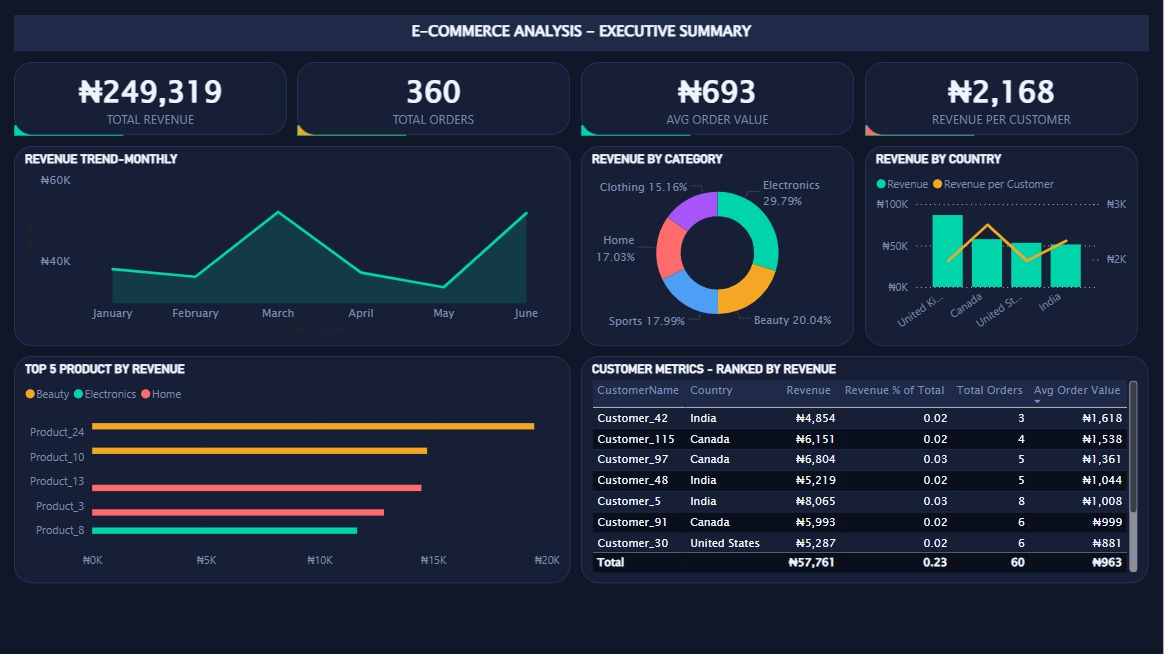

Layout of this report page (visuals, bound fields, positions):
{"tool":"powerbi","page":{"name":"Executive Summary","canvas":[1280,720],"ordinal":0},"visuals":[{"type":"group","id":"g1","title":"Group 1","box":[952,68,300,81],"z":0},{"type":"shape","box":[16,137,120,12],"z":0,"group":"g3"},{"type":"shape","box":[328,137,120,12],"z":0,"group":"g4"},{"type":"shape","box":[640,137,120,12],"z":0,"group":"g5"},{"type":"shape","box":[952,137,120,12],"z":0,"group":"g6"},{"type":"card","fields":{"Values":["_Measure.Revenue"]},"box":[16,68,300,80],"z":1000,"group":"g3"},{"type":"card","fields":{"Values":["_Measure.Total Orders"]},"box":[328,68,300,80],"z":1000,"group":"g4"},{"type":"group","id":"g2","title":"Group 1","box":[640,68,300,81],"z":1000},{"type":"card","fields":{"Values":["_Measure.Avg Order Value"]},"box":[640,68,300,80],"z":1000,"group":"g5"},{"type":"card","fields":{"Values":["_Measure.Revenue per Customer"]},"box":[952,68,300,80],"z":1000,"group":"g6"},{"type":"group","id":"g3","title":"Group 2","box":[16,68,300,81],"z":1002,"group":"g8"},{"type":"group","id":"g4","title":"Group 2","box":[328,68,300,81],"z":1002,"group":"g7"},{"type":"group","id":"g5","title":"Group 2","box":[640,68,300,81],"z":1002,"group":"g2"},{"type":"group","id":"g6","title":"Group 2","box":[952,68,300,81],"z":1002,"group":"g1"},{"type":"group","id":"g7","title":"Group 1","box":[328,68,300,81],"z":2000},{"type":"group","id":"g8","title":"Group 1","box":[16,68,300,81],"z":3000},{"type":"textbox","box":[16,16,1248,40],"z":4000},{"type":"areaChart","title":"REVENUE TREND-MONTHLY","fields":{"Category":["Sales.Month Name"],"Y":["_Measure.Revenue"]},"box":[16,160,612,220],"z":5000},{"type":"donutChart","title":"REVENUE BY CATEGORY","fields":{"Category":["Products.Category"],"Y":["_Measure.Revenue"]},"box":[640,160,300,220],"z":6000},{"type":"lineClusteredColumnComboChart","title":"REVENUE BY COUNTRY","fields":{"Category":["Customer_info.Country"],"Y":["_Measure.Revenue"],"Y2":["_Measure.Revenue per Customer"]},"box":[952,160,300,220],"z":7000},{"type":"clusteredBarChart","title":"TOP 5 PRODUCT BY REVENUE","fields":{"Category":["Products.ProductName"],"Y":["_Measure.Revenue"],"Series":["Products.Category"]},"box":[16,392,612,250],"z":8000},{"type":"tableEx","title":"CUSTOMER METRICS - RANKED BY REVENUE","fields":{"Values":["Customer_info.CustomerName","Customer_info.Country","_Measure.Revenue","_Measure.Revenue % of Total","_Measure.Total Orders","_Measure.Avg Order Value"]},"box":[640,392,624,250],"z":9000}]}

Visuals, with their boxes in screenshot pixels (x1, y1, x2, y2), scaled from the page's 1280x720 canvas onto the 1164x654 screenshot:
"Group 1" group: select_region(866, 62, 1139, 135)
shape: select_region(15, 124, 124, 135)
shape: select_region(298, 124, 407, 135)
shape: select_region(582, 124, 691, 135)
shape: select_region(866, 124, 975, 135)
card - _Measure.Revenue: select_region(15, 62, 287, 134)
card - _Measure.Total Orders: select_region(298, 62, 571, 134)
"Group 1" group: select_region(582, 62, 855, 135)
card - _Measure.Avg Order Value: select_region(582, 62, 855, 134)
card - _Measure.Revenue per Customer: select_region(866, 62, 1139, 134)
"Group 2" group: select_region(15, 62, 287, 135)
"Group 2" group: select_region(298, 62, 571, 135)
"Group 2" group: select_region(582, 62, 855, 135)
"Group 2" group: select_region(866, 62, 1139, 135)
"Group 1" group: select_region(298, 62, 571, 135)
"Group 1" group: select_region(15, 62, 287, 135)
textbox: select_region(15, 15, 1149, 51)
"REVENUE TREND-MONTHLY" areaChart: select_region(15, 145, 571, 345)
"REVENUE BY CATEGORY" donutChart: select_region(582, 145, 855, 345)
"REVENUE BY COUNTRY" lineClusteredColumnComboChart: select_region(866, 145, 1139, 345)
"TOP 5 PRODUCT BY REVENUE" clusteredBarChart: select_region(15, 356, 571, 583)
"CUSTOMER METRICS - RANKED BY REVENUE" tableEx: select_region(582, 356, 1149, 583)
